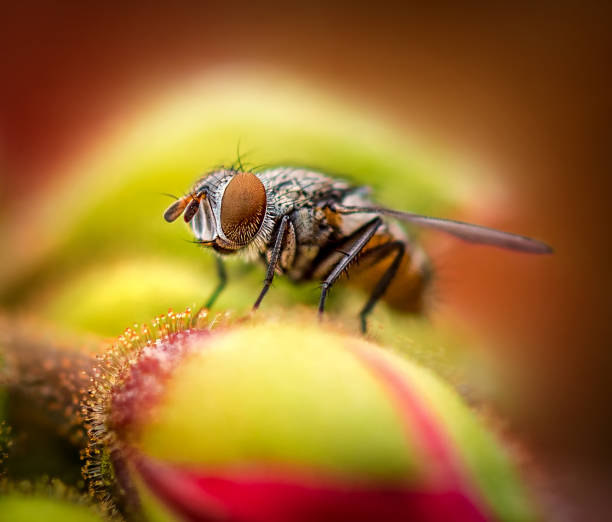Fruit fly: (170, 138, 500, 325)
